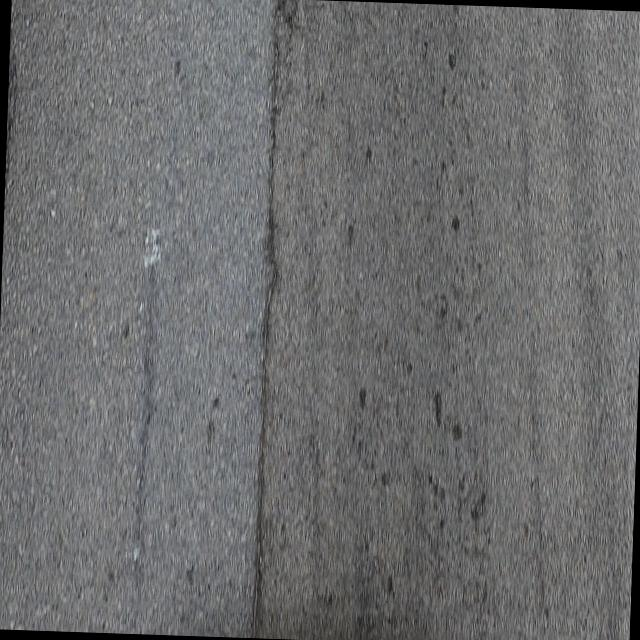Retak-Memanjang: (249, 38, 285, 631)
